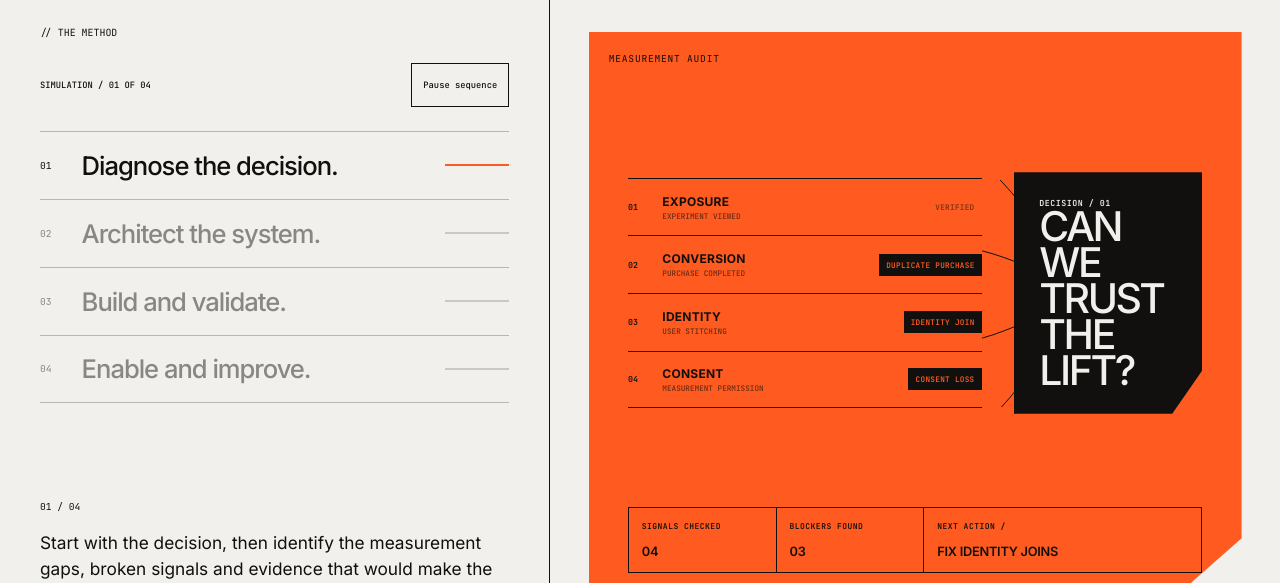
Test case: connects each architecture node in sequence
(page scrolled)
Click the button "02 Architect the system.": (275, 233) [40,199,509,267]
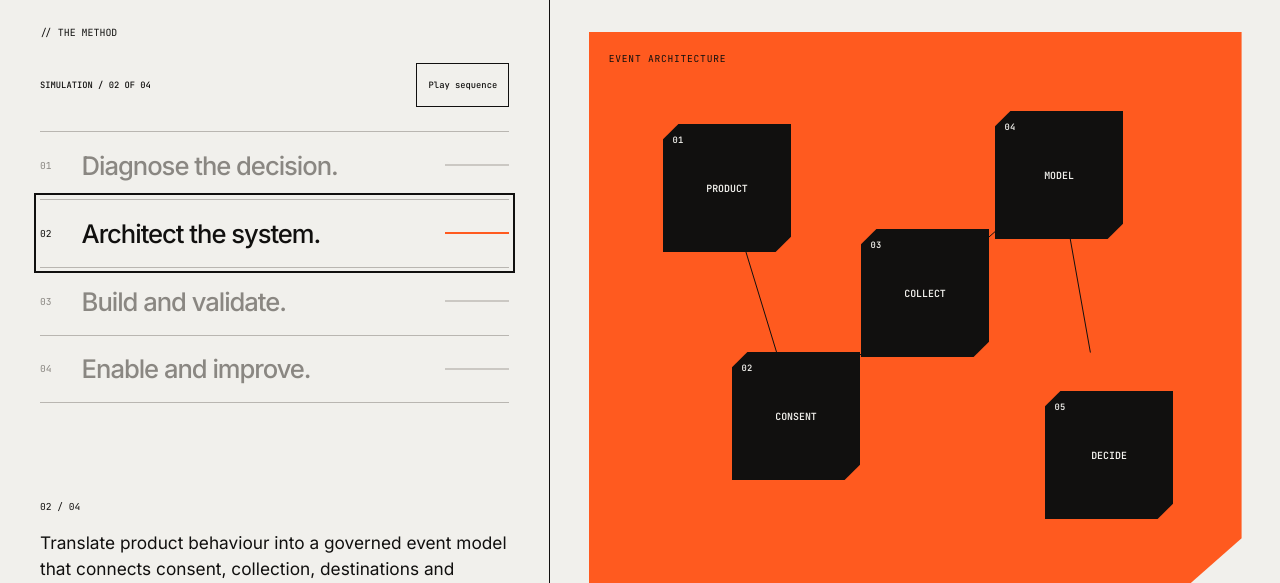
Check: the icon in the row of "DECIDE" is shown, box [667,101,1163,538]
